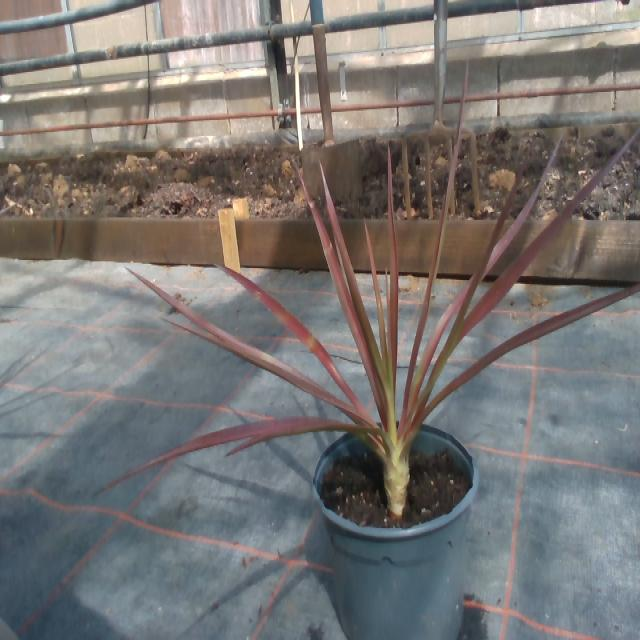Yucca-aloifolia: (445, 129, 639, 355), (129, 269, 372, 432), (423, 284, 639, 413), (220, 267, 363, 416), (98, 417, 379, 492), (403, 110, 462, 419), (303, 183, 382, 408), (321, 167, 381, 383), (480, 140, 560, 279), (414, 280, 470, 396), (365, 225, 387, 368), (388, 148, 398, 385), (419, 356, 443, 408)
